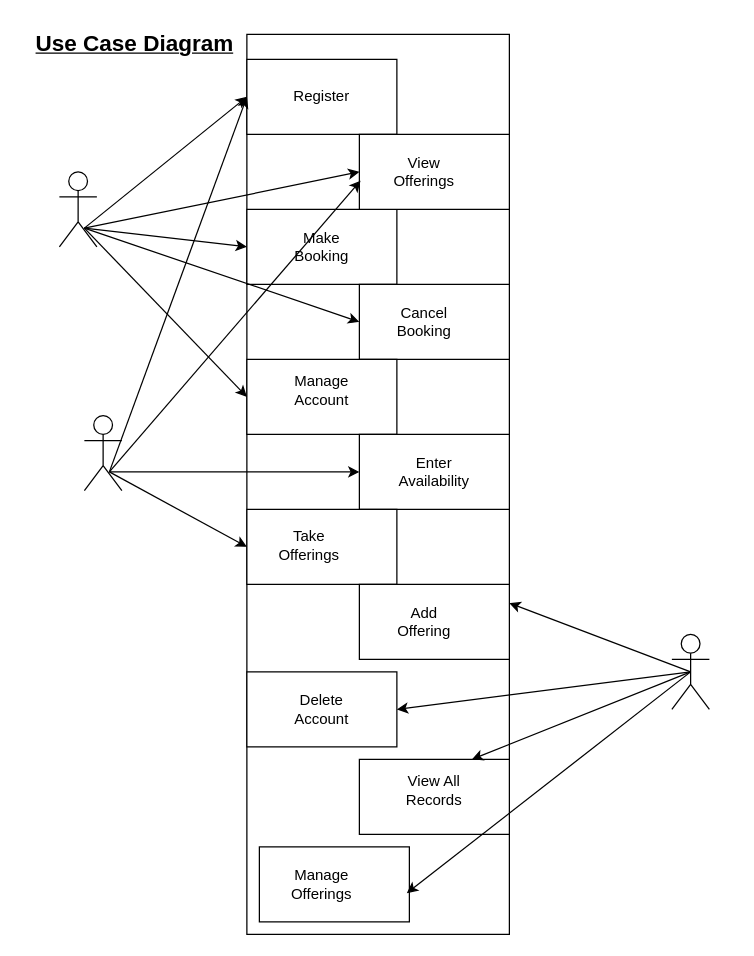
Image size: 754x956. Some labels were removed from this diagram. The shapes that lost their labels are listed below. From the top down, each one's box as (x1, y1, x2, y2) in pixels, then its label:
(58, 171, 97, 247): Client
(83, 414, 122, 491): Instructor
(671, 633, 709, 709): Adminstrator
